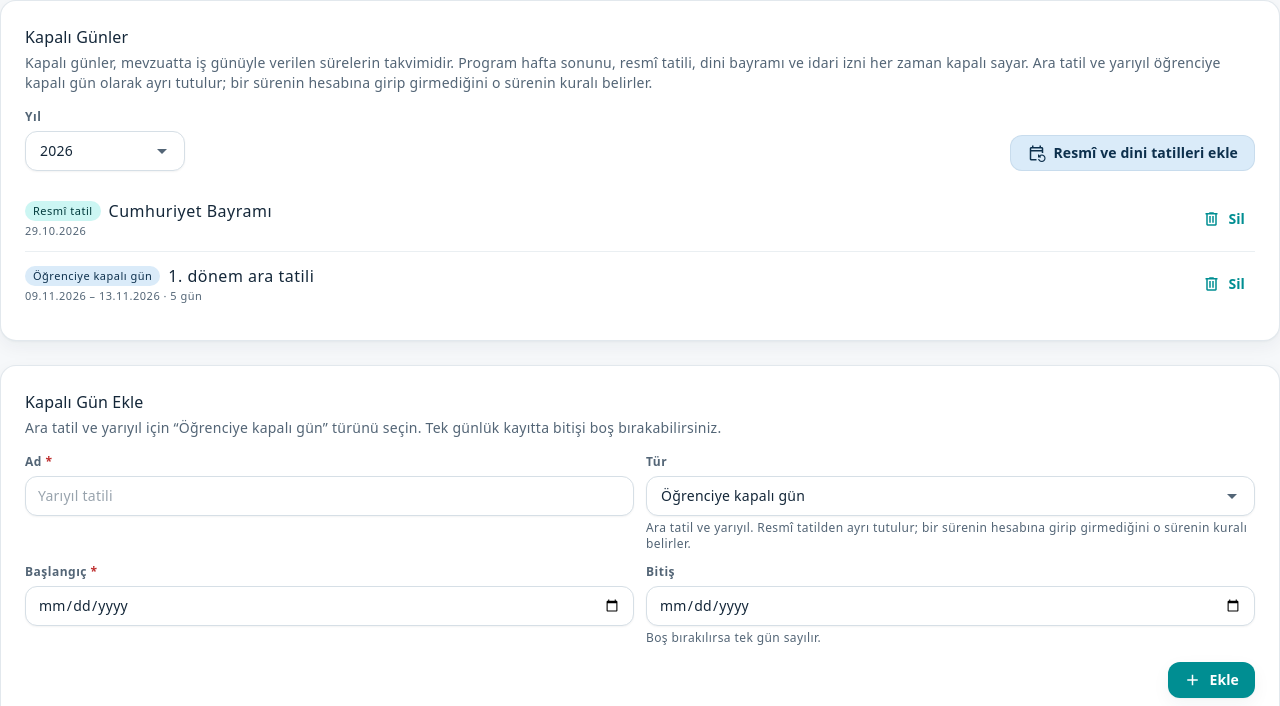
Test: KapaliGunlerPaneli — resmî ve dini tatilleri ekle › tohumlama hatası bantta gösterilir
Expected: the text "Cumhuriyet Bayramı" is shown, [109,200,272,222]
Click the button "Resmî ve dini tatilleri ekle".
click(1133, 153)  # box [1010,135,1255,171]
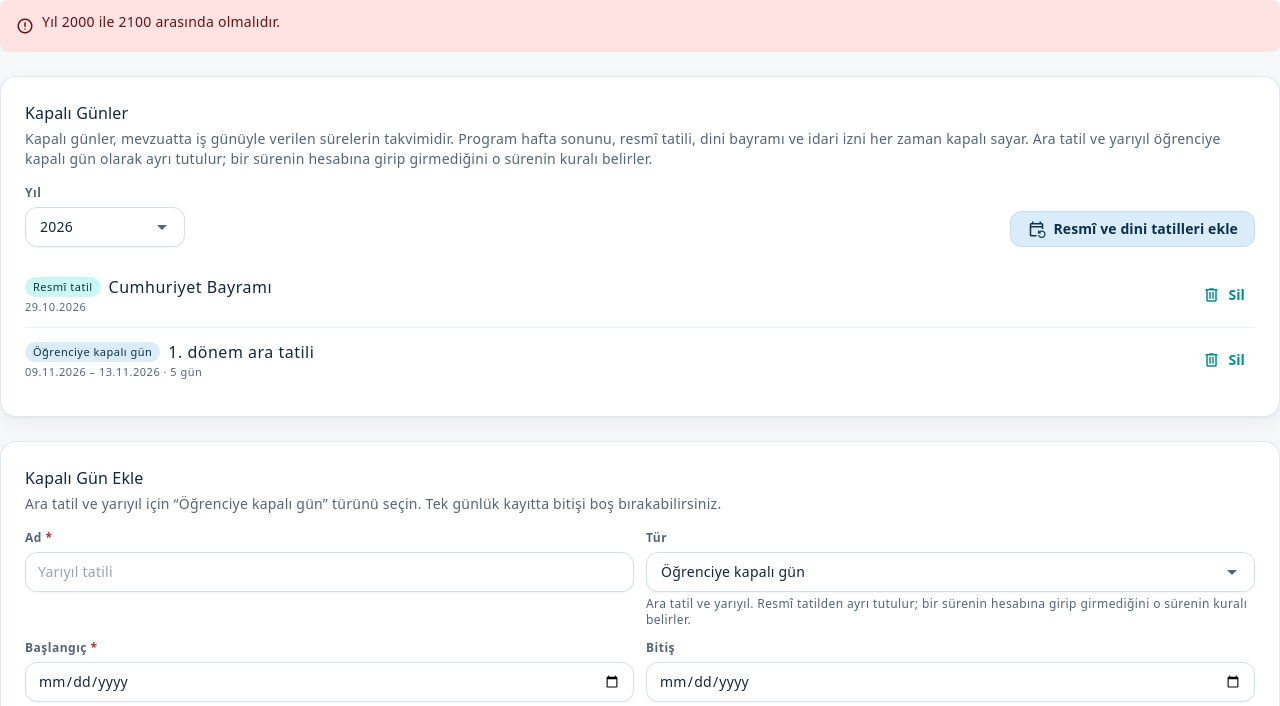
Expected: the message shows "arasında olmalıdır", [42,12,280,31]
